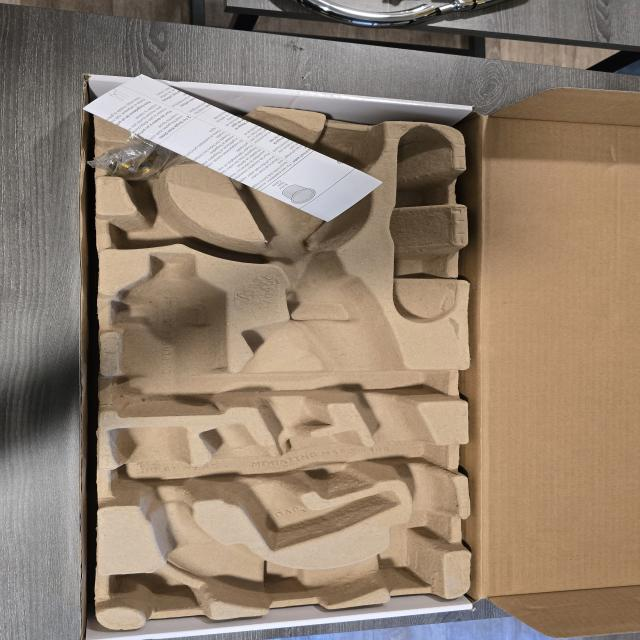1m: (106, 112, 454, 608)
2m: (198, 425, 394, 549)
3m: (118, 254, 226, 414)
4m: (387, 126, 454, 321)
5m: (313, 135, 377, 174)
6o: (91, 116, 219, 181)
7m: (109, 197, 219, 253)
8: (80, 73, 384, 223)
